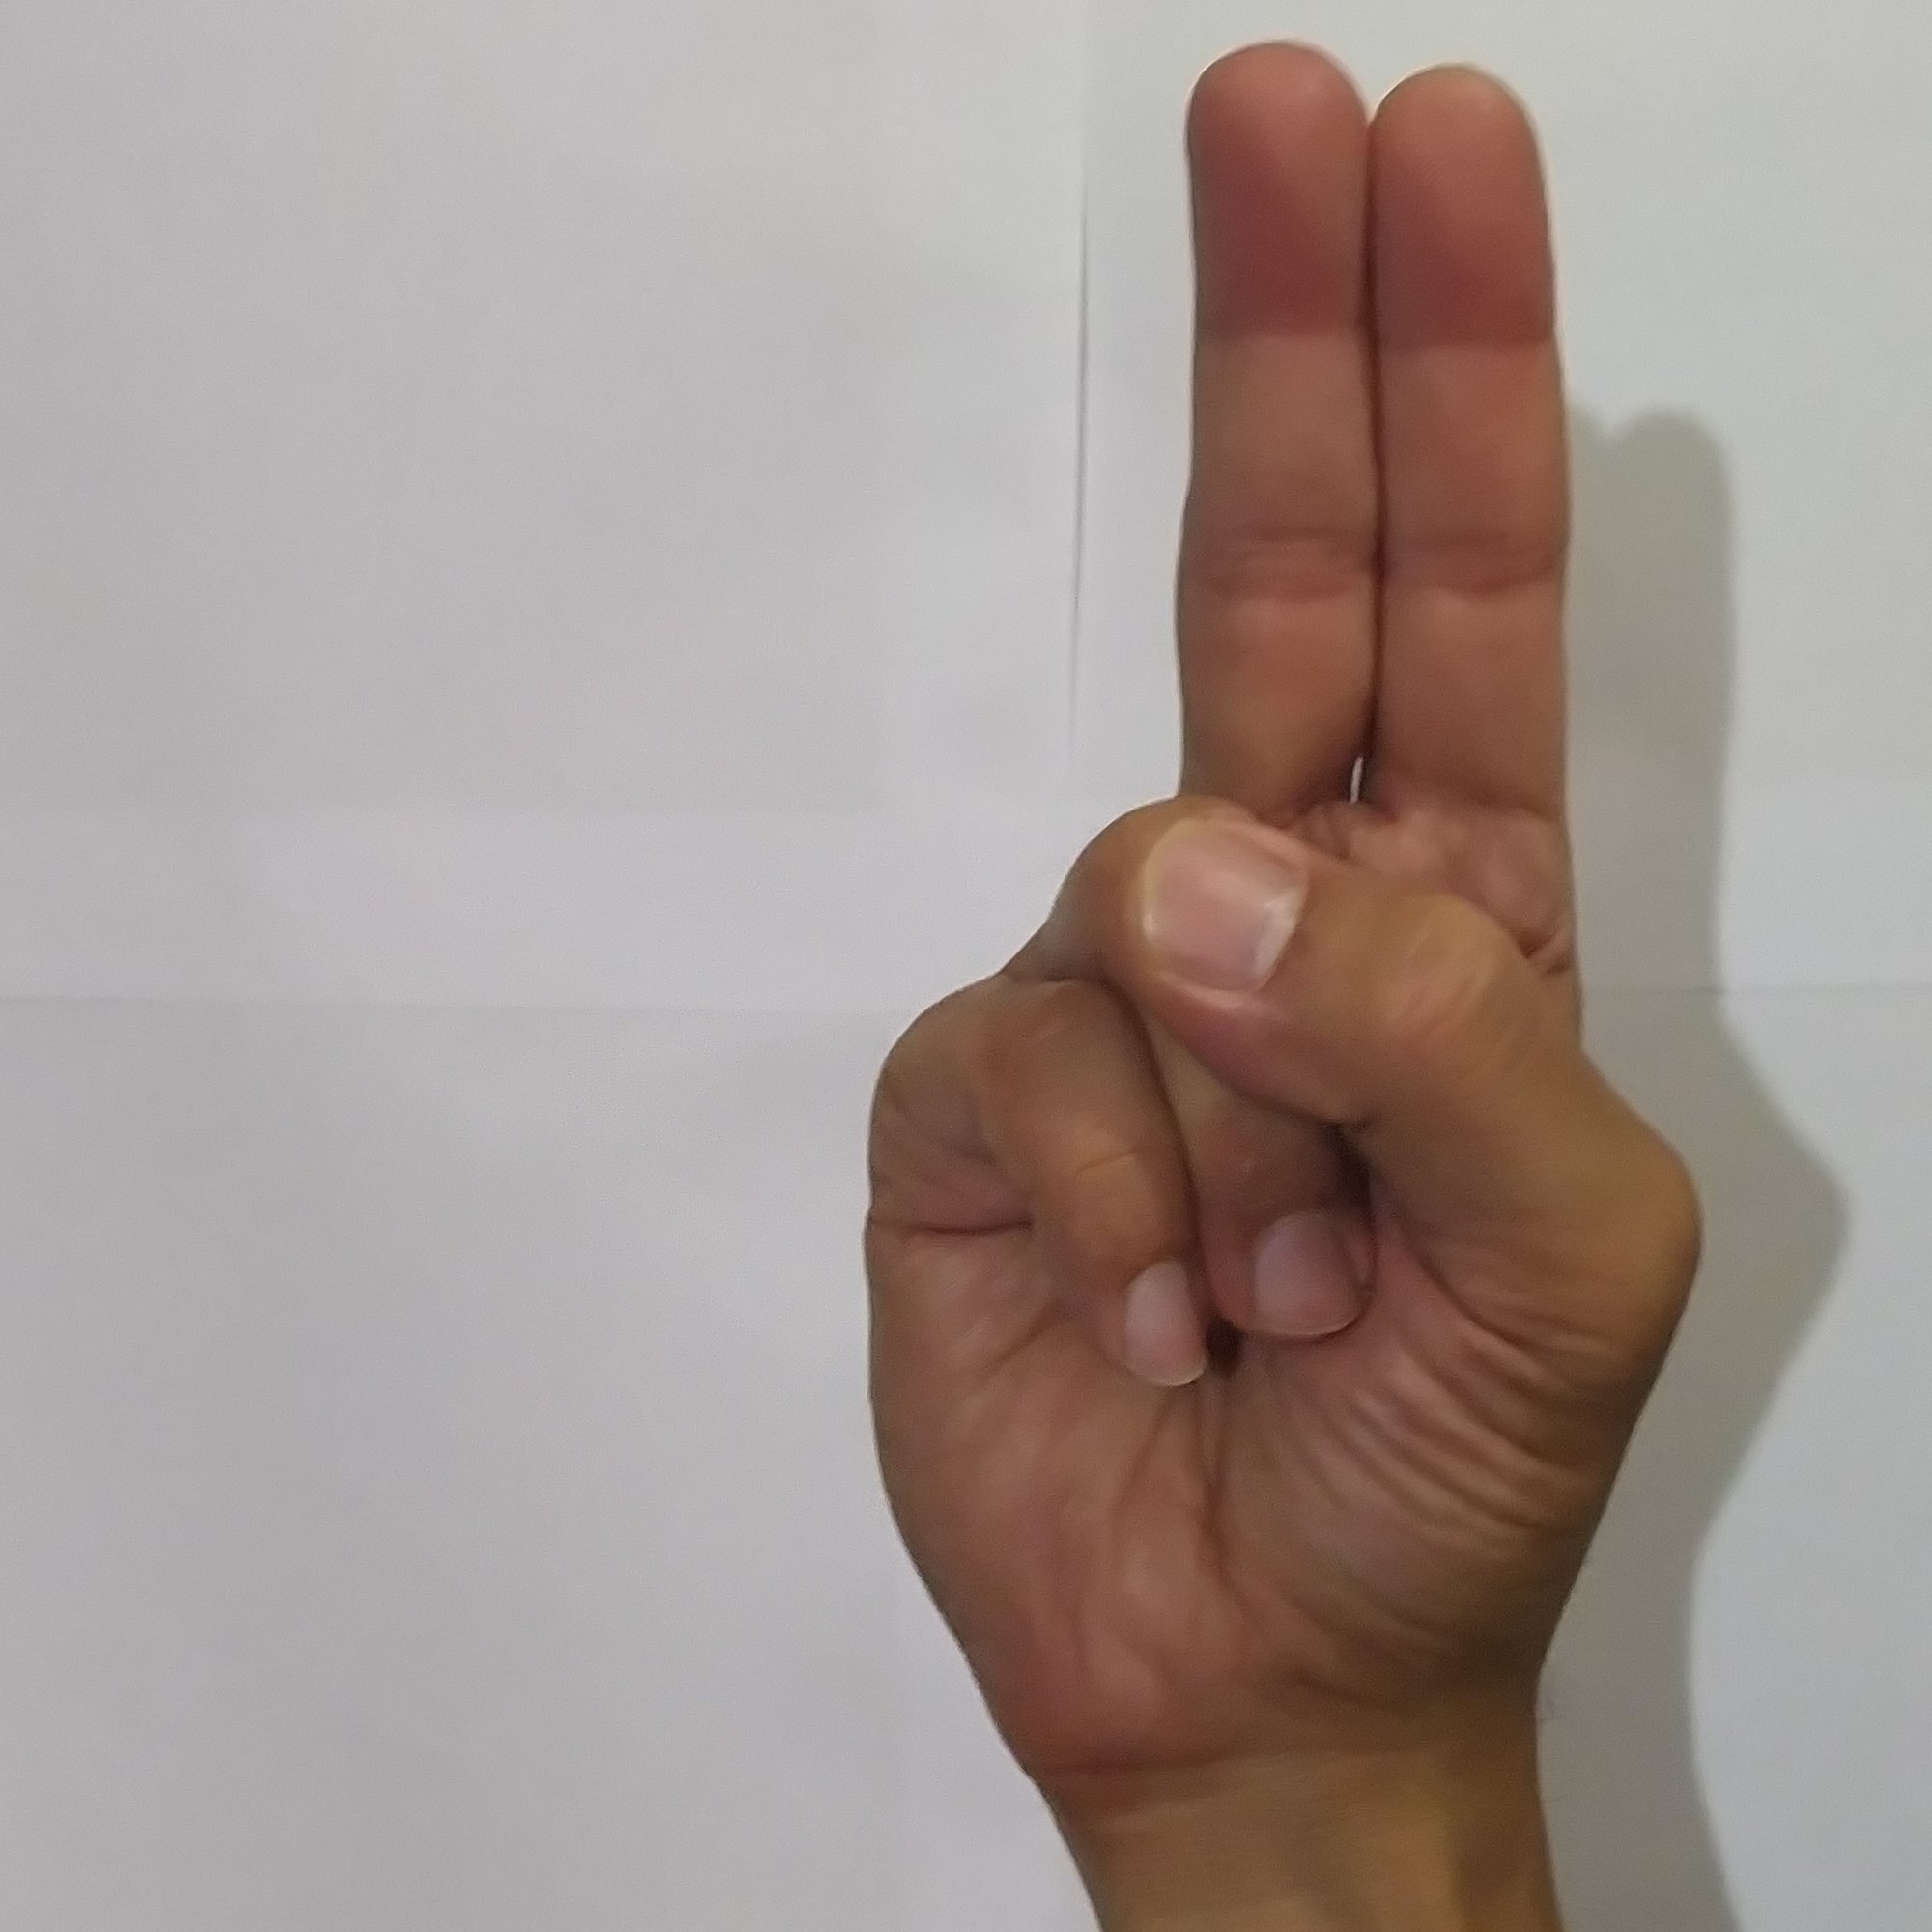U: (823, 19, 1725, 1766)
